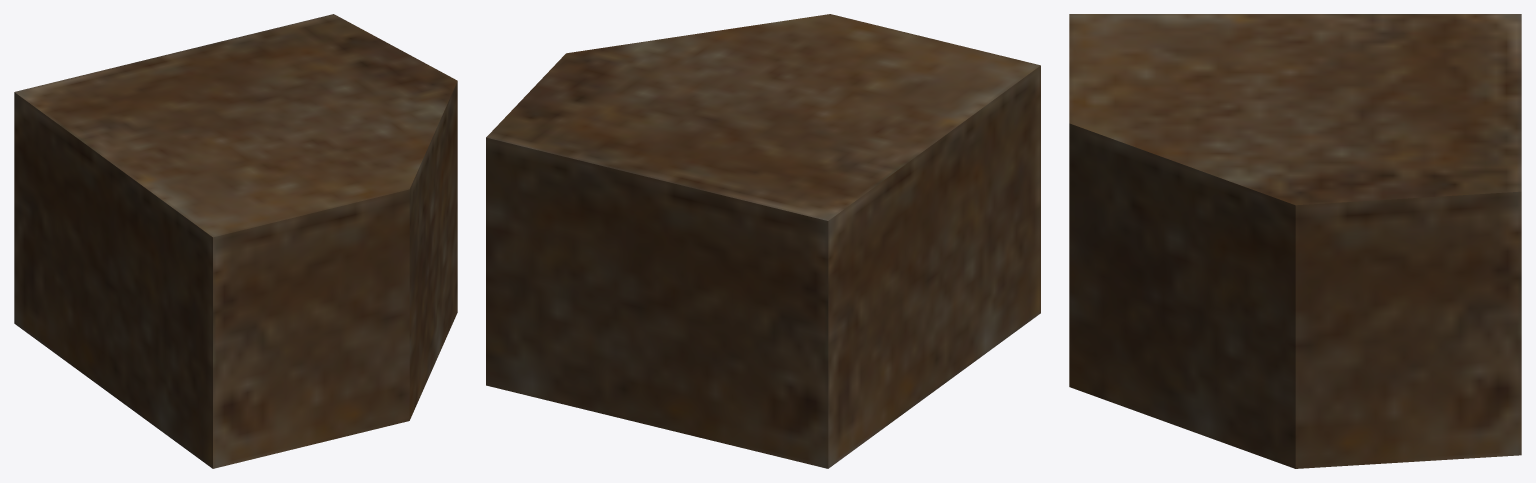
Rendered from brick_mx_1_2.obj.
3 views of the same model, side by side, from view 1: azimuth 30°, elevation 25°; view 2: azimuth 150°, elevation 25°; view 3: azimuth 270°, elevation 25° (orthographic). The views are drawn at different scales.
Visible parts, largest first — view 1: brick_mx_1_2; view 2: brick_mx_1_2; view 3: brick_mx_1_2.
Part boxes in pixels (<box>): brick_mx_1_2: <box>14,14,457,468</box>; brick_mx_1_2: <box>486,14,1040,468</box>; brick_mx_1_2: <box>1069,14,1521,468</box>.
Bounding box in the file's own units: 0.14 × 0.09 × 0.14.
